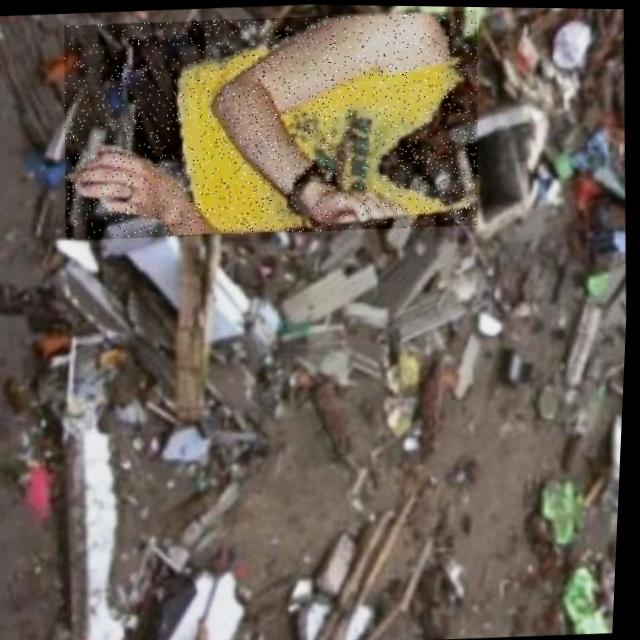Person in Rubble: (56, 4, 487, 245)
